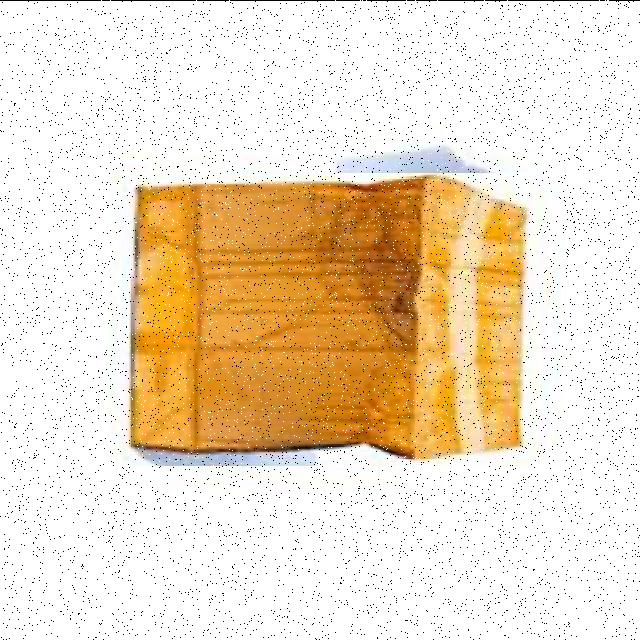defect: (122, 172, 530, 465)
